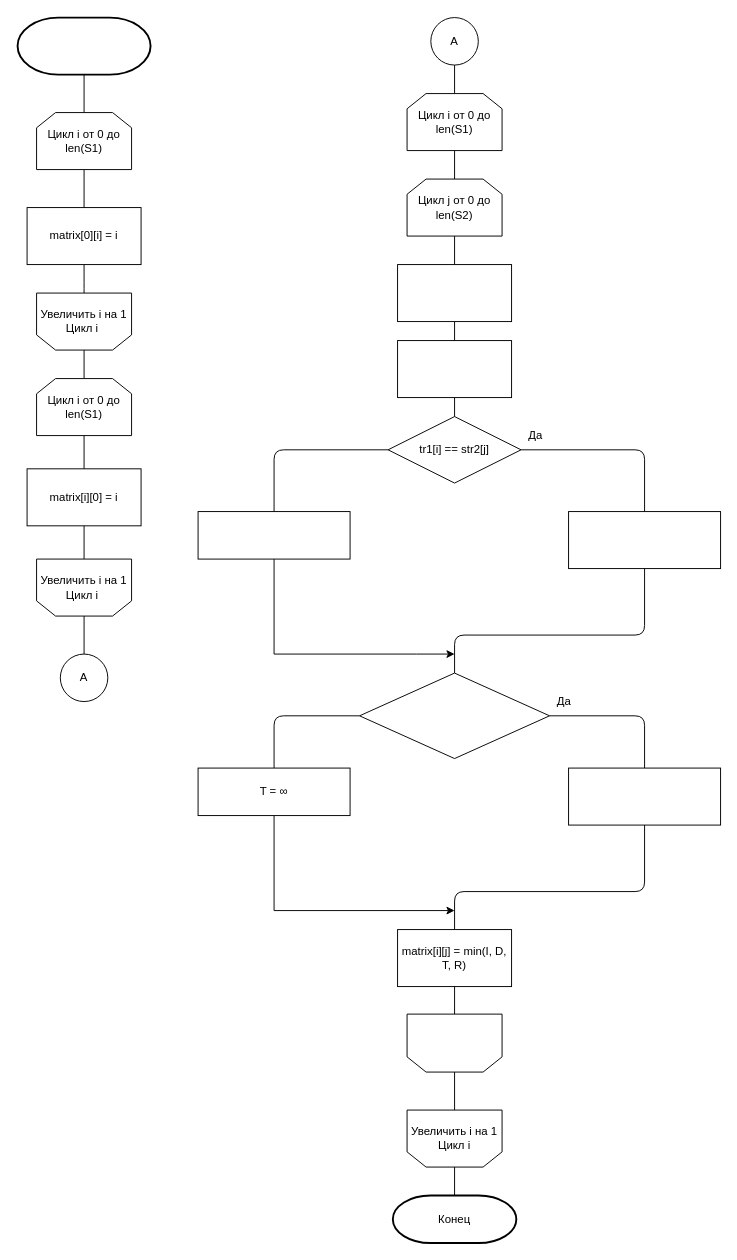
This 737x1260 diagram has some shape labels left out. Here are the shapes that lost their labels. From the top down, the box of each, then its label:
(16, 16, 151, 75): Начало
(397, 264, 512, 322): I = matrix[i][j - 1] + 1
(397, 340, 512, 398): D = matrix[i - 1][j] + 1
(197, 511, 350, 559): R = matrix[i - 1][j - 1] + 1
(568, 511, 721, 569): R = matrix([i - 1][j - 1])
(359, 672, 550, 759): i > 1 && j > 1 && str1[i - 2] == str2[j - 1] && str1[i - 1] == str2[j - 2]
(568, 767, 721, 825): T = matrix[i - 2][j - 2] + 1
(406, 1013, 502, 1072): Увеличить j на 1 Цикл j
